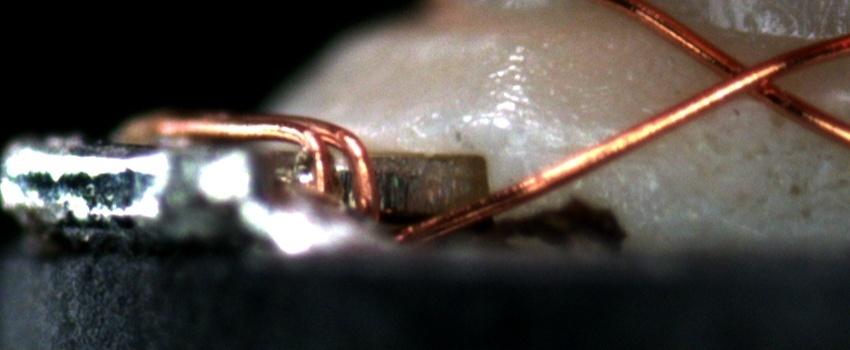CL: (696, 46, 797, 107)
DL: (512, 125, 654, 182)
TE: (132, 100, 387, 227)
